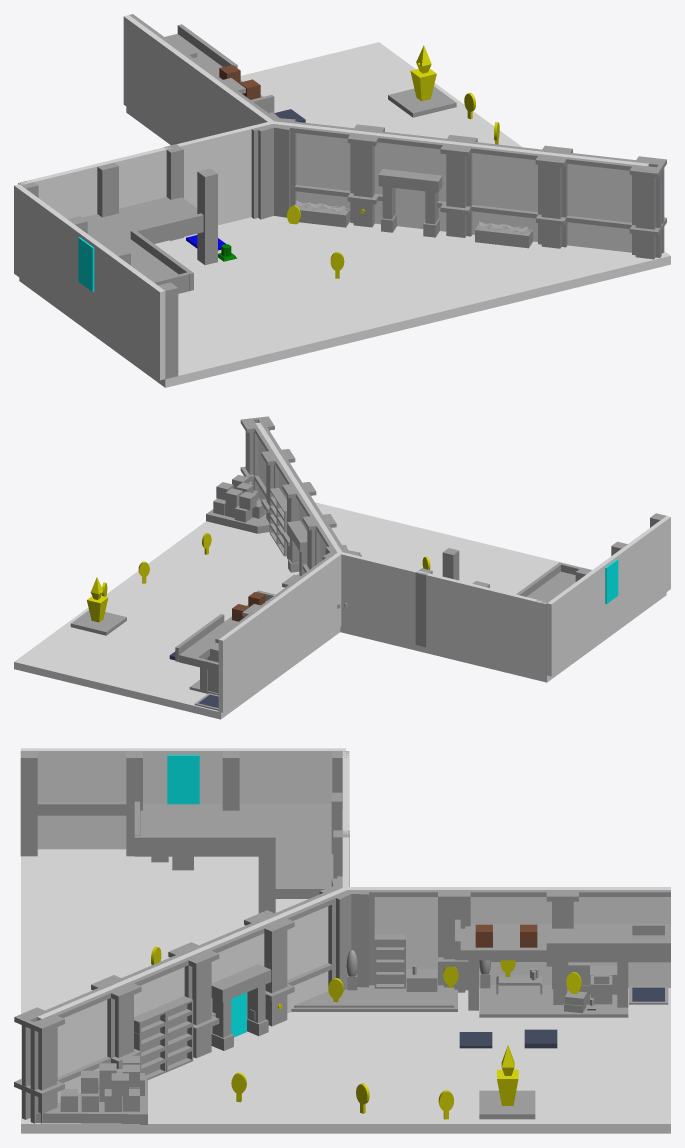
The model's file is Salle 2 passe.fbx.
3 views of the same model, one above another, from view 1: azimuth 30°, elevation 25°; view 2: azimuth 150°, elevation 25°; view 3: azimuth 270°, elevation 25° (orthographic). The views are drawn at different scales.
Parts seen in each view (by area): view 1: pCube97, pCube94, pCube96, wall4, wall2, wall10, wall9, wall1, wall7, wall14, wall, pCube234 (+25 smaller); view 2: pCube96, pCube94, pCube97, wall5, wall7, wall6, wall1, wall10, wall2, wall11, wall12, wall (+11 smaller); view 3: pCube96, pCube97, pCube94, pCube234, wall2, wall1, pCube124 (×3), wall10, wall12, plateforme_haut, wall8, wall4 (+42 smaller).
Boxes of the visible parts, left/top/right/bottom form: pCube97: left=19, top=216, right=418, bottom=387; pCube94: left=281, top=217, right=670, bottom=325; pCube96: left=126, top=42, right=522, bottom=147; wall4: left=553, top=153, right=648, bottom=252; wall2: left=111, top=255, right=165, bottom=380; wall10: left=123, top=15, right=177, bottom=139; wall9: left=459, top=142, right=554, bottom=241; wall1: left=14, top=184, right=67, bottom=308; wall7: left=187, top=121, right=273, bottom=225; wall14: left=366, top=132, right=460, bottom=231; wall: left=62, top=220, right=116, bottom=344; pCube234: left=82, top=197, right=197, bottom=280; pCube96: left=14, top=574, right=340, bottom=719; pCube94: left=133, top=502, right=459, bottom=602; pCube97: left=340, top=537, right=666, bottom=682; wall5: left=477, top=585, right=546, bottom=676; wall7: left=339, top=552, right=409, bottom=642; wall6: left=408, top=568, right=478, bottom=659; wall1: left=547, top=574, right=591, bottom=676; wall10: left=218, top=610, right=262, bottom=712; wall2: left=627, top=516, right=670, bottom=617; wall11: left=259, top=581, right=302, bottom=683; wall12: left=298, top=552, right=341, bottom=654; wall: left=587, top=545, right=631, bottom=646; pCube96: left=346, top=988, right=670, bottom=1133; pCube97: left=21, top=849, right=307, bottom=986; pCube94: left=21, top=986, right=345, bottom=1133; pCube234: left=140, top=803, right=342, bottom=898; wall2: left=21, top=748, right=129, bottom=849; wall1: left=237, top=748, right=345, bottom=803; pCube124 (×3): left=35, top=950, right=211, bottom=1123; wall10: left=562, top=887, right=670, bottom=987; wall12: left=346, top=887, right=454, bottom=982; plateforme_haut: left=460, top=924, right=670, bottom=960; wall8: left=267, top=888, right=347, bottom=1013; wall4: left=37, top=984, right=118, bottom=1102.
Size of the model in its own units: 30.74 by 5.58 by 30.33.
